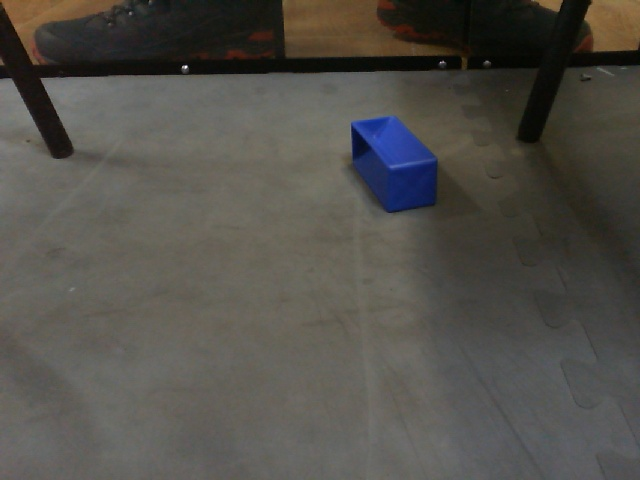BlueSample: (346, 112, 442, 217)
